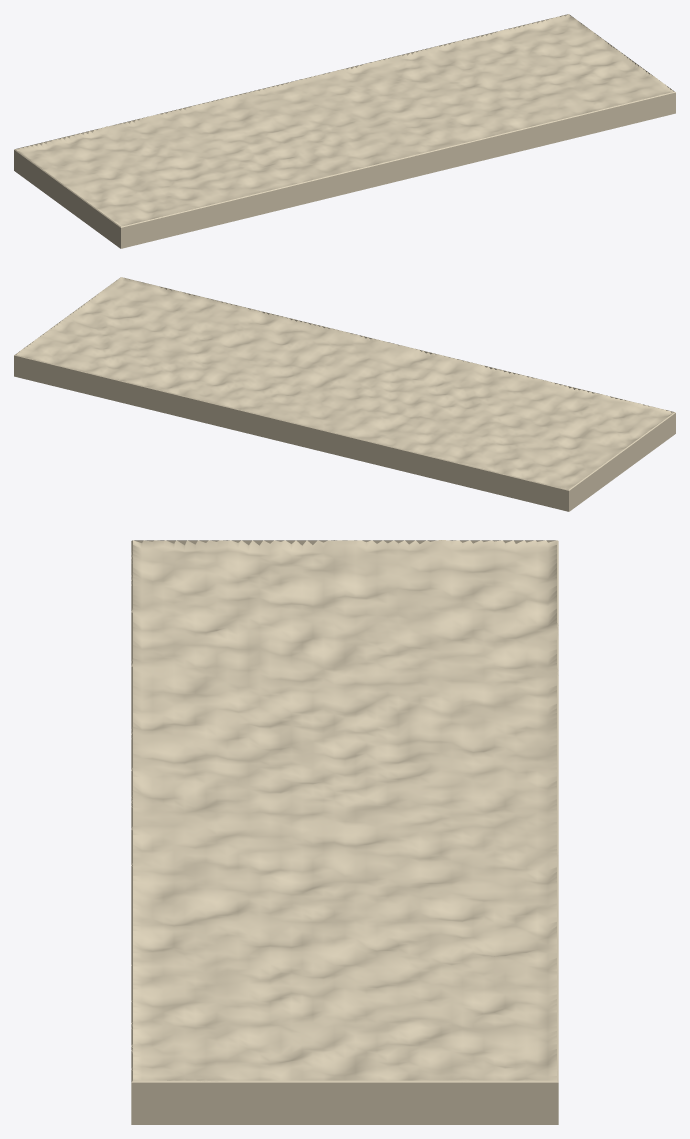
File: mahsulot.glb
3 renders of one model, top to bottom at view 1: azimuth 30°, elevation 25°; view 2: azimuth 150°, elevation 25°; view 3: azimuth 270°, elevation 25°, orthographic. The views are drawn at different scales.
Visible parts, largest first — view 1: mahsulot; view 2: mahsulot; view 3: mahsulot.
Part boxes in pixels (box(x1,y1,x2,y2)): mahsulot: box(14, 14, 675, 248); mahsulot: box(14, 277, 675, 511); mahsulot: box(131, 540, 558, 1124).
Bounding box in the file's own units: 1.2 × 0.045 × 0.4.
